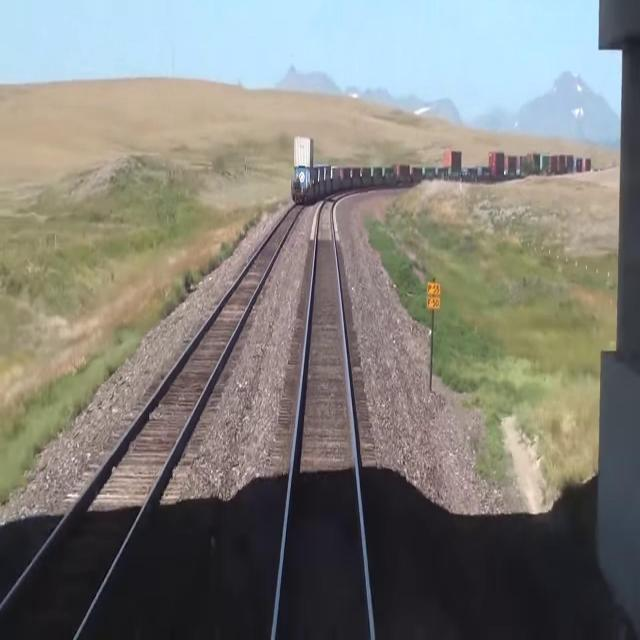rail-track: (0, 203, 303, 639), (275, 191, 370, 639)
